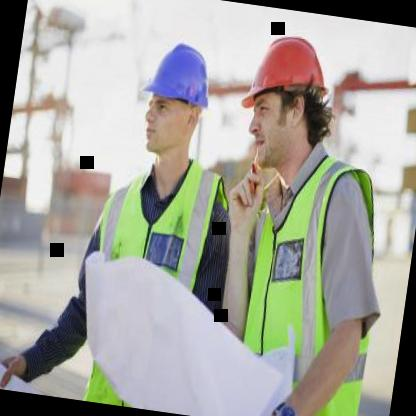helmet: (230, 13, 344, 180), (124, 23, 230, 180)
